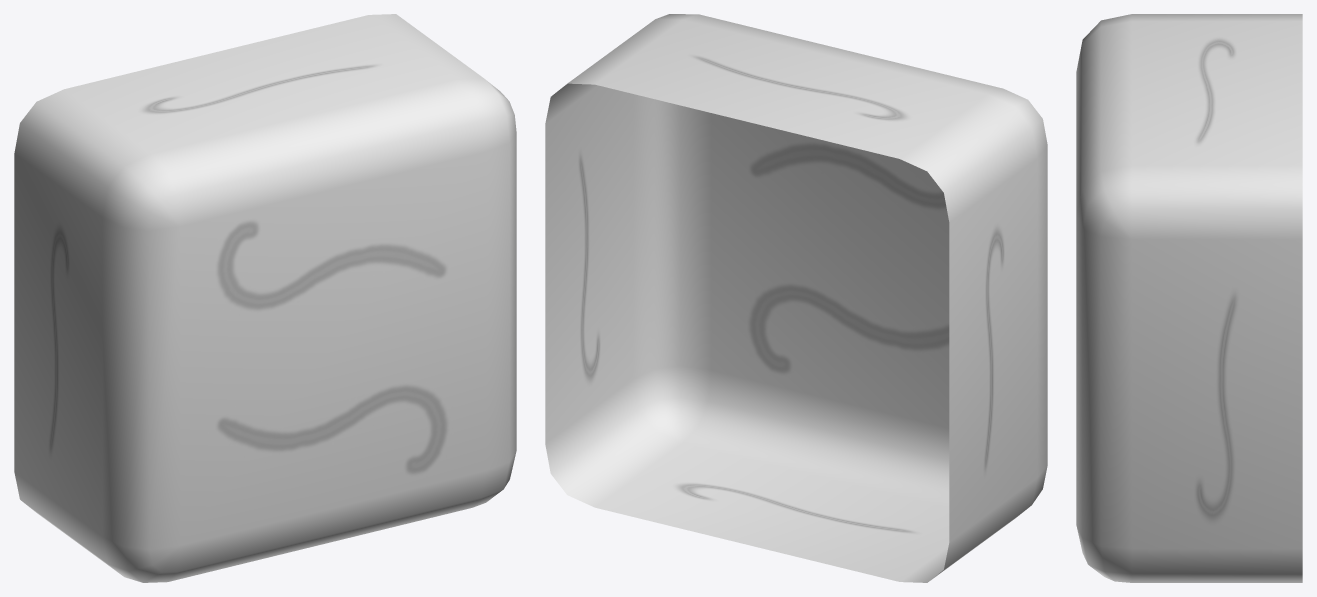
File: Cloud_block.FBX
The picture shows the model from 3 angles, left to right: view 1: azimuth 30°, elevation 25°; view 2: azimuth 150°, elevation 25°; view 3: azimuth 270°, elevation 25°; orthographic projection. The views are drawn at different scales.
Visible parts, largest first — view 1: Object1697; view 2: Object1697; view 3: Object1697.
Boxes of the visible parts, x1,y1,x2,y2 form: Object1697: [14, 14, 516, 582]; Object1697: [545, 14, 1047, 582]; Object1697: [1076, 14, 1302, 582].
Size of the model in its own units: 19.76 by 19.76 by 9.88.
Materials: 1 (1 with a texture image).
